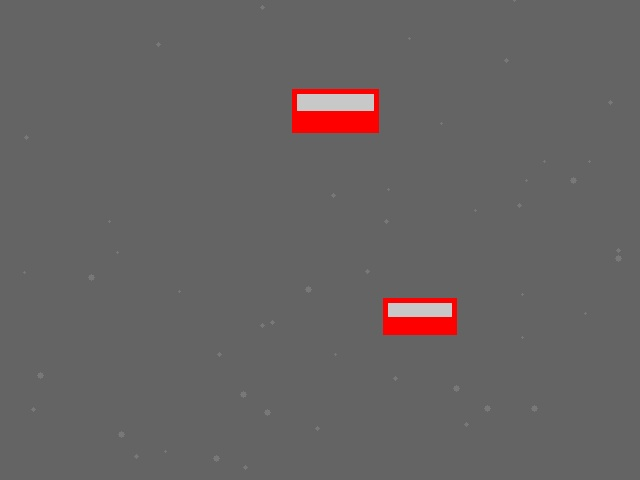car: (292, 89, 378, 132), (383, 298, 456, 334)
